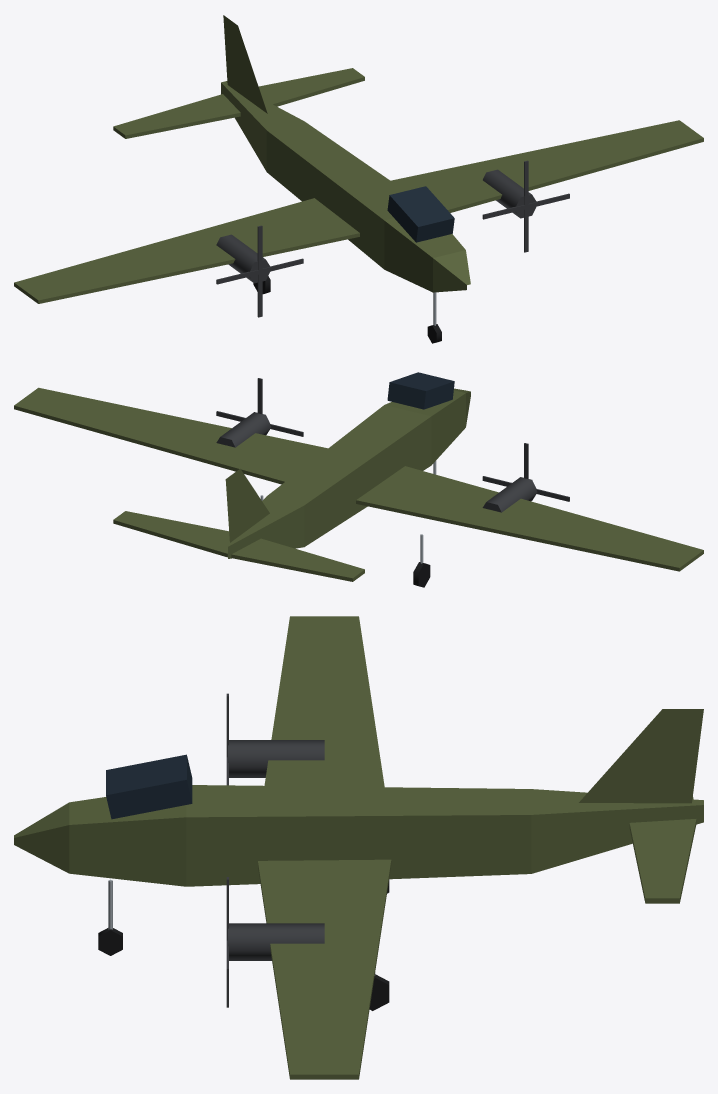
File: veh_air_bomber_a06_lod2.glb
The picture shows the model from 3 angles, top to bottom: view 1: azimuth 30°, elevation 25°; view 2: azimuth 150°, elevation 25°; view 3: azimuth 270°, elevation 25°; orthographic projection. The views are drawn at different scales.
Visible parts, largest first — view 1: body, propeller_0, propeller_1; view 2: body, propeller_1, propeller_0, gear_1; view 3: body, gear_0.
Boxes of the visible parts, box(x1,y1,x2,y2) form: body: box(14, 15, 703, 303); propeller_0: box(216, 225, 303, 317); propeller_1: box(482, 160, 569, 252); body: box(14, 372, 703, 581); propeller_1: box(216, 378, 303, 436); propeller_0: box(482, 443, 569, 501); gear_1: box(413, 534, 430, 587); body: box(14, 616, 703, 1079); gear_0: box(98, 879, 122, 955).
Bounding box in the file's own units: 22.66 × 5.68 × 14.42.
